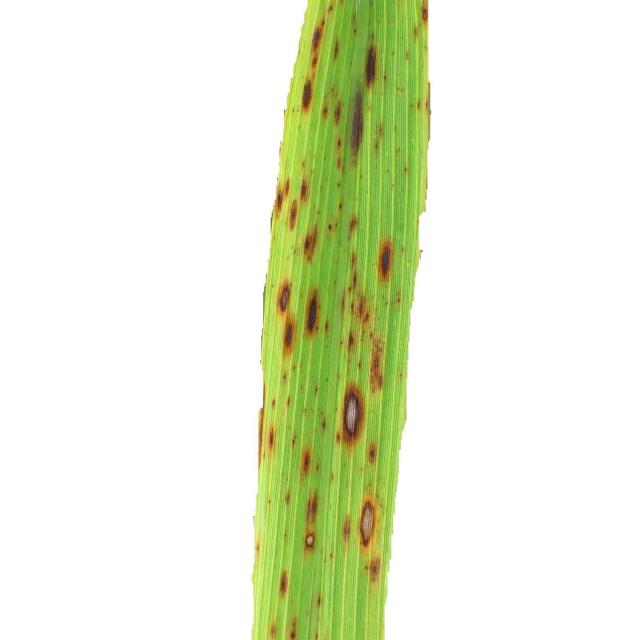Brown spot: (240, 0, 447, 640)
